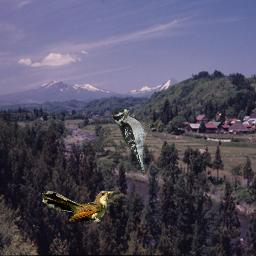Cuckoo: (42, 191, 113, 222)
Woodpecker: (113, 108, 156, 176)
